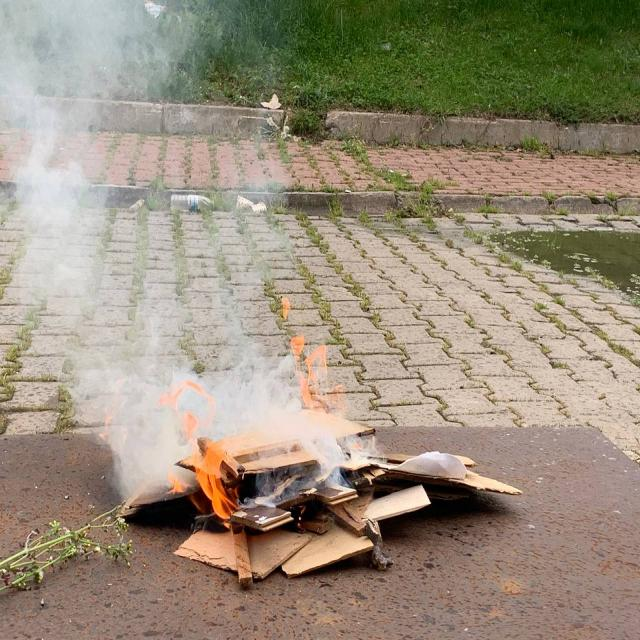fire: (269, 293, 362, 482), (123, 364, 230, 523)
